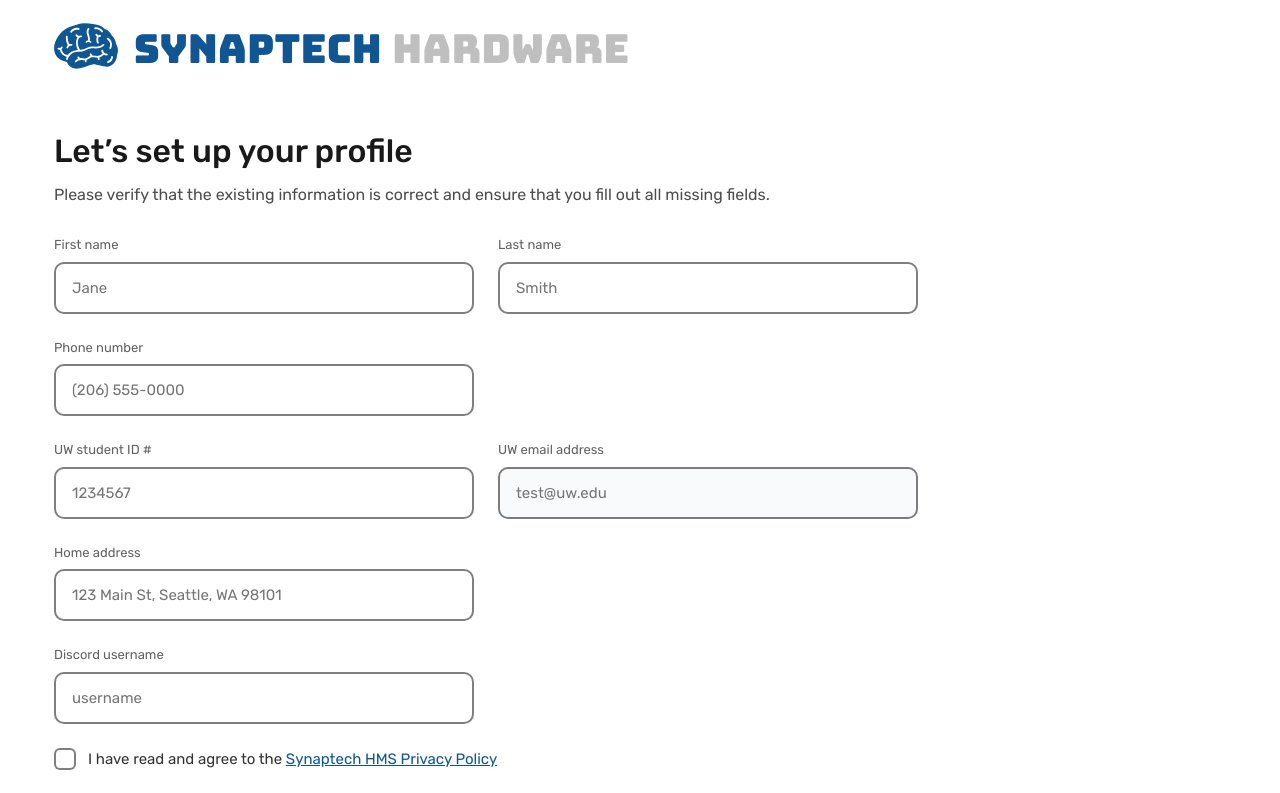
ProfileSetupPage — form validation › shows a phone format error for non-phone input
Type "not-a-phone!!!" into the field labelled "Phone number".
click(264, 390); type("not-a-phone!!!")  # box [54,364,474,416]
(page scrolled)
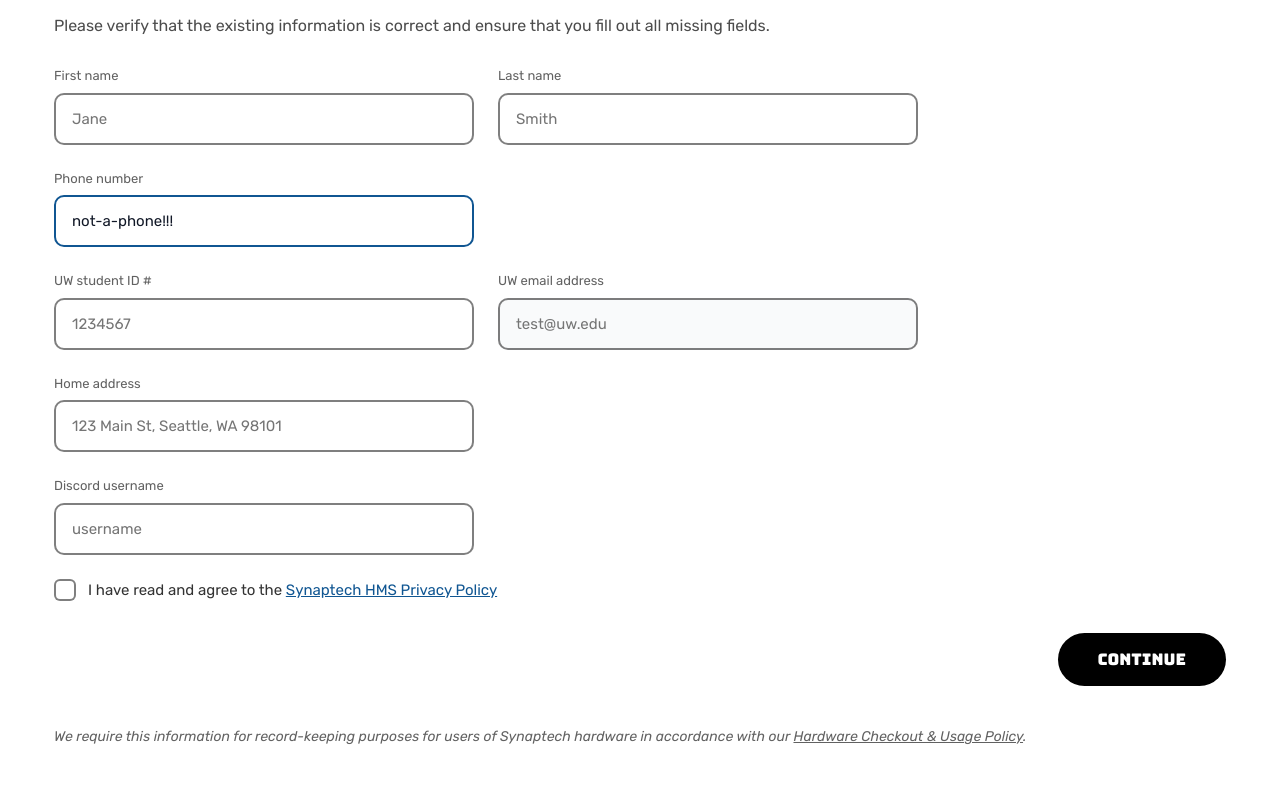
Click the button "Continue".
click(1142, 660)  # box [1058,633,1226,686]
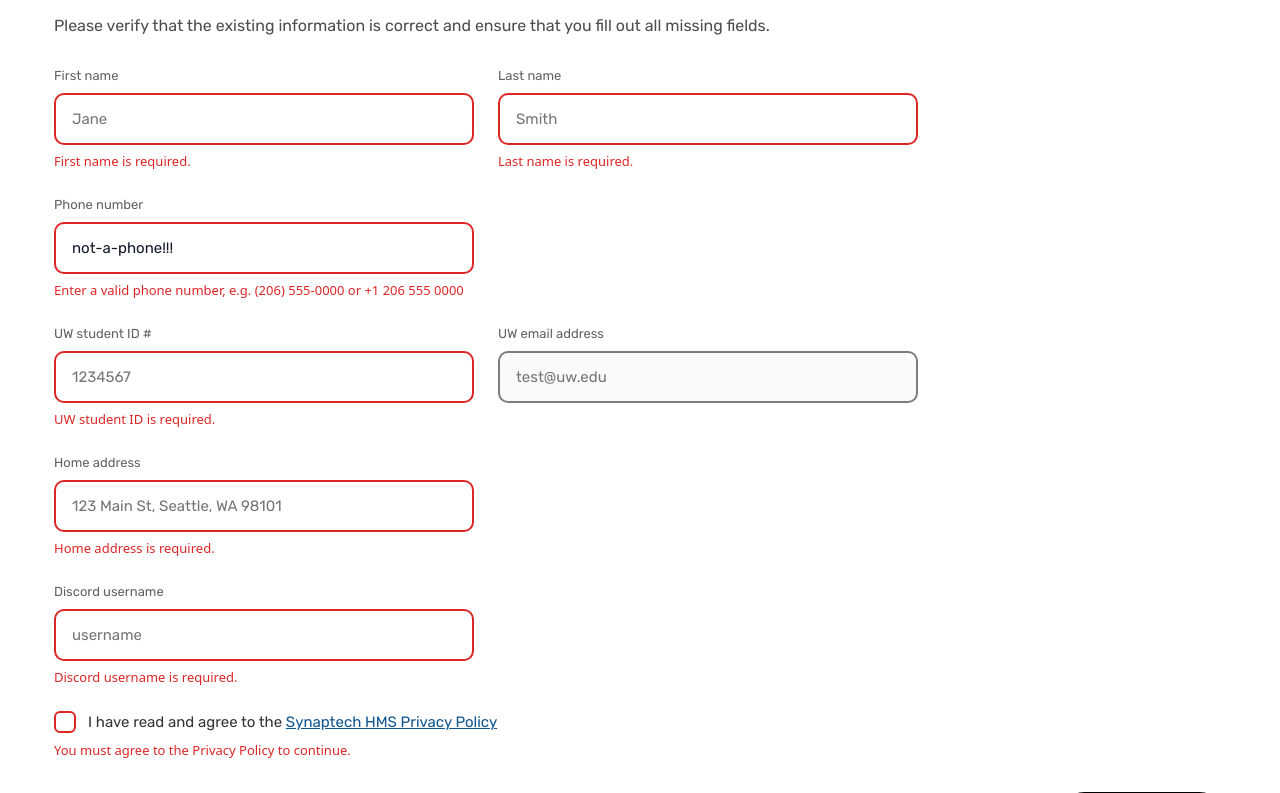
Check: the text "Enter a valid phone number" is shown, box [54,280,464,298]
